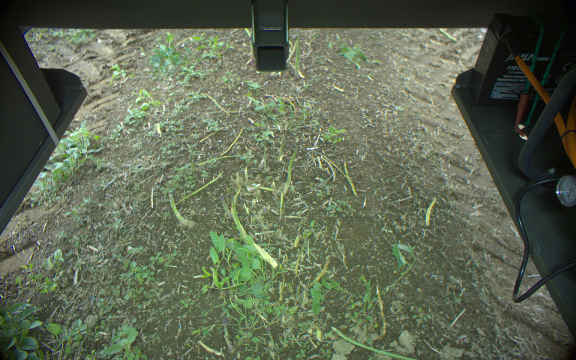aspa: (229, 187, 277, 267), (328, 325, 420, 360), (165, 189, 195, 231), (276, 147, 296, 195), (308, 255, 331, 288), (291, 28, 303, 81), (219, 311, 234, 352), (217, 192, 228, 217)
